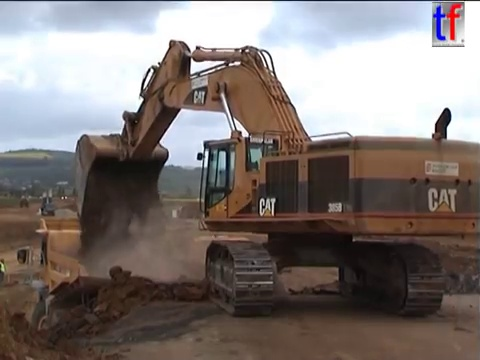excavator: (70, 36, 480, 319)
truck: (14, 215, 217, 347), (163, 230, 291, 297), (169, 203, 209, 222), (18, 196, 29, 208)
worker: (1, 256, 7, 287)
